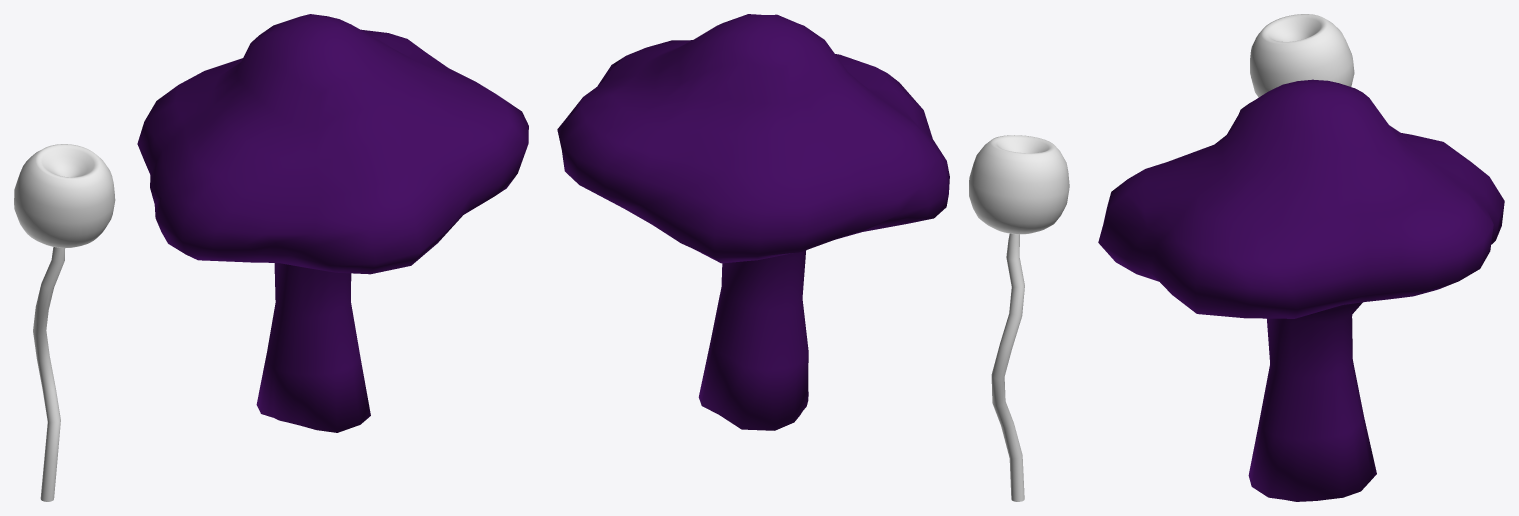
The model's file is hongos.fbx.
3 views of the same model, side by side, from view 1: azimuth 30°, elevation 25°; view 2: azimuth 150°, elevation 25°; view 3: azimuth 270°, elevation 25° (orthographic). The views are drawn at different scales.
Parts seen in each view (by area): view 1: _low.001, Cylinder; view 2: _low.001, Cylinder; view 3: _low.001, Cylinder.
Part boxes in pixels (bbox=[...]): _low.001: bbox=[137, 14, 528, 432]; Cylinder: bbox=[14, 144, 115, 501]; _low.001: bbox=[557, 14, 949, 430]; Cylinder: bbox=[969, 135, 1069, 501]; _low.001: bbox=[1098, 79, 1504, 501]; Cylinder: bbox=[1250, 14, 1354, 97].
Size of the model in its own units: 180 by 149 by 129.
